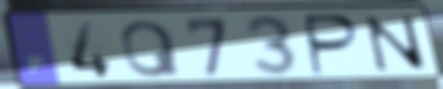3: (246, 13, 298, 79)
4: (68, 21, 114, 81)
7: (182, 17, 231, 80)
N: (361, 14, 432, 73)
P: (304, 13, 364, 78)
Q: (118, 19, 184, 79)
